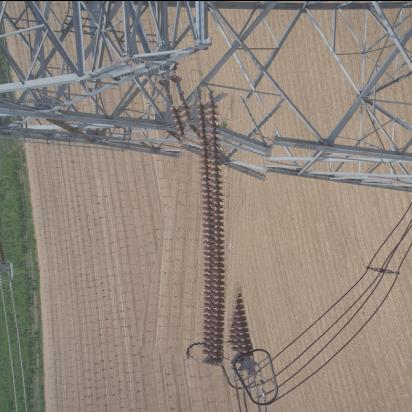insulator: (151, 89, 269, 363)
